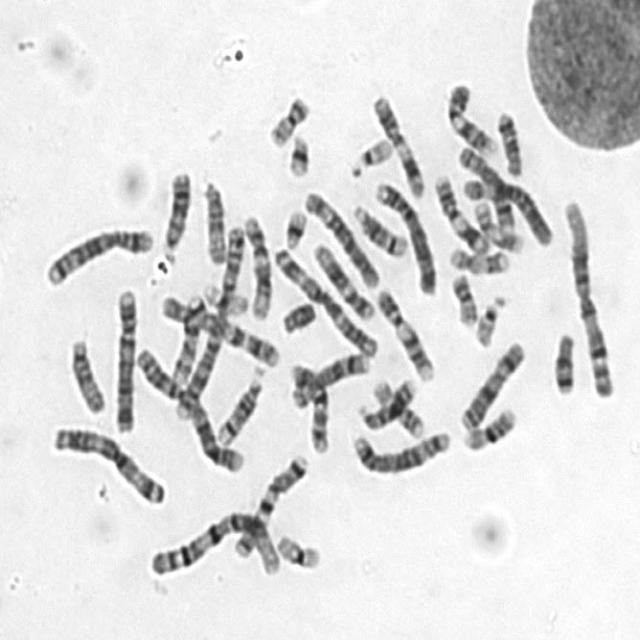A1: (558, 191, 617, 398), (142, 502, 284, 579)
A2: (169, 216, 249, 420), (130, 340, 247, 474)
A3: (266, 237, 379, 359), (45, 417, 168, 507)
B4: (370, 170, 440, 297), (108, 279, 140, 435)
B5: (39, 218, 156, 289), (346, 420, 453, 476)
C10: (284, 354, 332, 455), (165, 288, 208, 388)
C11: (365, 86, 426, 200), (428, 167, 492, 256)
C12: (306, 232, 378, 322), (238, 208, 274, 320)
C6: (299, 182, 381, 290), (456, 168, 556, 248)
C7: (155, 288, 283, 370), (226, 447, 311, 560)
C8: (452, 137, 520, 234), (286, 343, 372, 410)
C9: (370, 280, 437, 383), (440, 74, 499, 156)
D13: (352, 371, 418, 432), (155, 161, 194, 262)
D14: (211, 361, 266, 446), (347, 196, 410, 258)
D15: (63, 329, 109, 415), (196, 172, 229, 266)
E16: (368, 372, 426, 440), (457, 398, 519, 452)
E17: (468, 195, 525, 254), (444, 240, 512, 276)
E18: (492, 101, 525, 178), (547, 323, 578, 397)
F19: (272, 525, 323, 571), (197, 274, 251, 316)
F20: (264, 87, 312, 148), (445, 264, 480, 328)
G21: (281, 125, 312, 178), (278, 200, 309, 250)
G22: (344, 128, 395, 178), (469, 286, 509, 348)
X: (453, 331, 527, 433)
Y: (276, 293, 319, 335)
